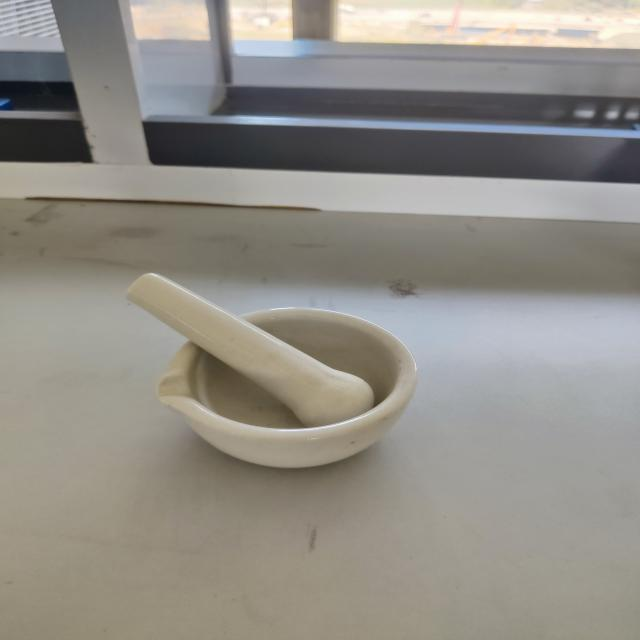Porcelain_Mortar Pestle: (92, 222, 468, 508)
